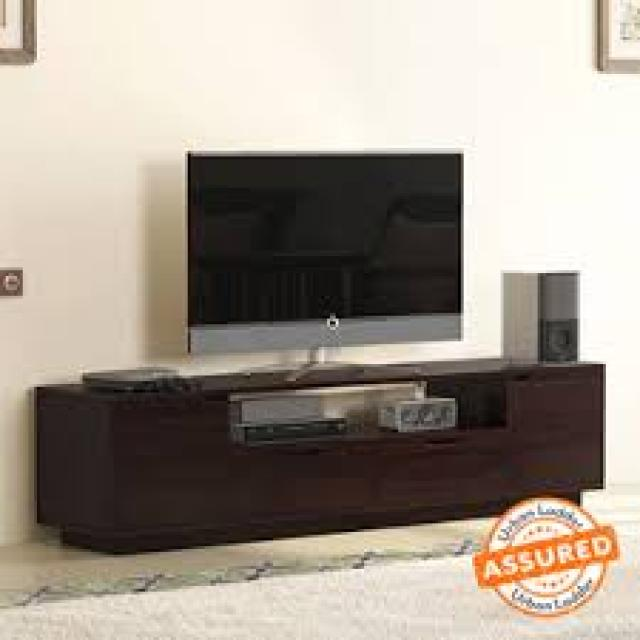tv: (178, 137, 482, 359)
